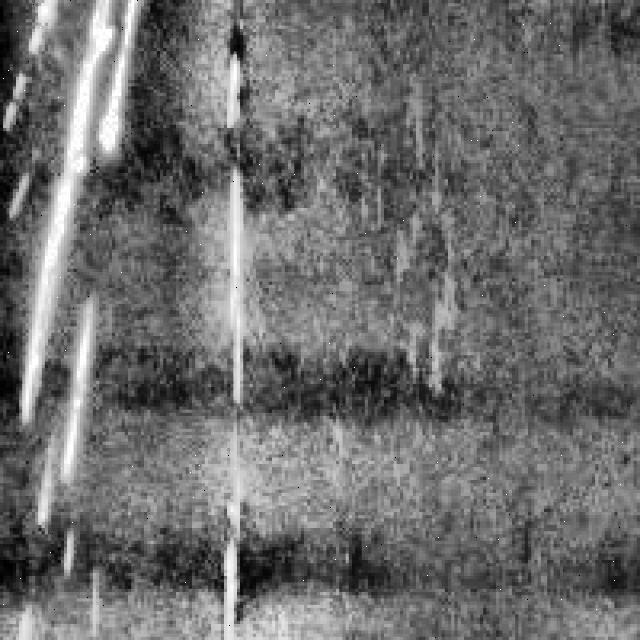Inclusion: (12, 0, 134, 467), (202, 39, 256, 634)
